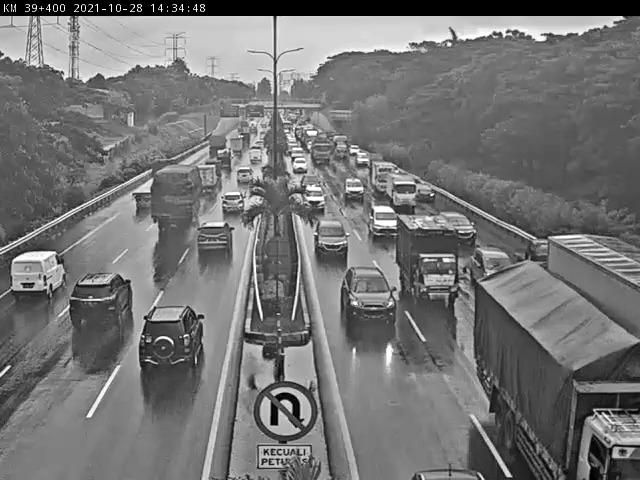big truck: (474, 259, 640, 480), (547, 235, 640, 333), (152, 161, 203, 230)
car: (136, 301, 207, 376), (65, 269, 135, 334), (9, 250, 65, 311), (340, 267, 392, 320), (312, 217, 352, 260), (194, 219, 233, 263), (410, 463, 485, 480), (360, 197, 394, 234), (462, 239, 497, 271), (493, 222, 531, 251), (437, 203, 467, 239), (218, 189, 246, 216), (303, 182, 329, 210), (231, 167, 257, 192), (340, 176, 365, 202), (412, 182, 435, 205), (289, 154, 311, 177)
small truck: (400, 217, 460, 300), (133, 156, 177, 209), (385, 171, 422, 212), (367, 157, 401, 189), (195, 162, 221, 191)
